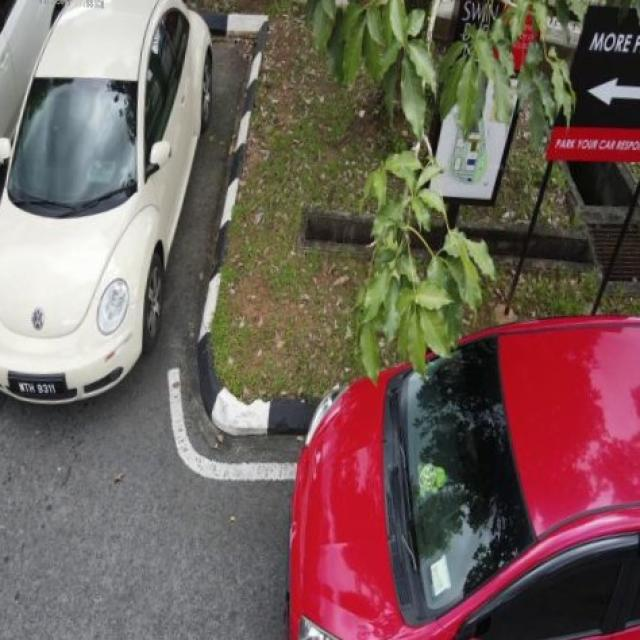Legalparking: (0, 0, 201, 440)
illegalparking: (275, 312, 640, 640)
